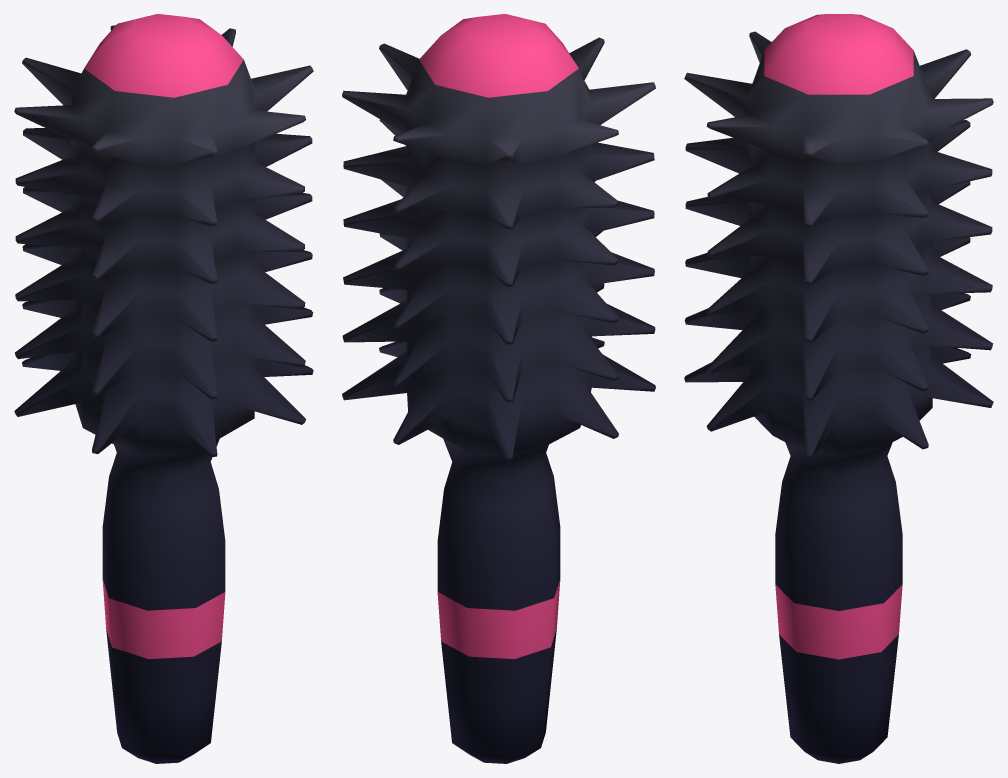
File: Hair_Brush_02.fbx
3 renders of one model, left to right at view 1: azimuth 30°, elevation 25°; view 2: azimuth 150°, elevation 25°; view 3: azimuth 270°, elevation 25°, orthographic.
Visible parts, largest first — view 1: Hair_Brush_02; view 2: Hair_Brush_02; view 3: Hair_Brush_02.
Boxes of the visible parts, bbox=[...] form: Hair_Brush_02: bbox=[14, 14, 313, 763]; Hair_Brush_02: bbox=[342, 14, 655, 763]; Hair_Brush_02: bbox=[684, 14, 993, 763].
Bounding box in the file's own units: 0.079 × 0.2038 × 0.079.
Materials: 1 (1 with a texture image).
